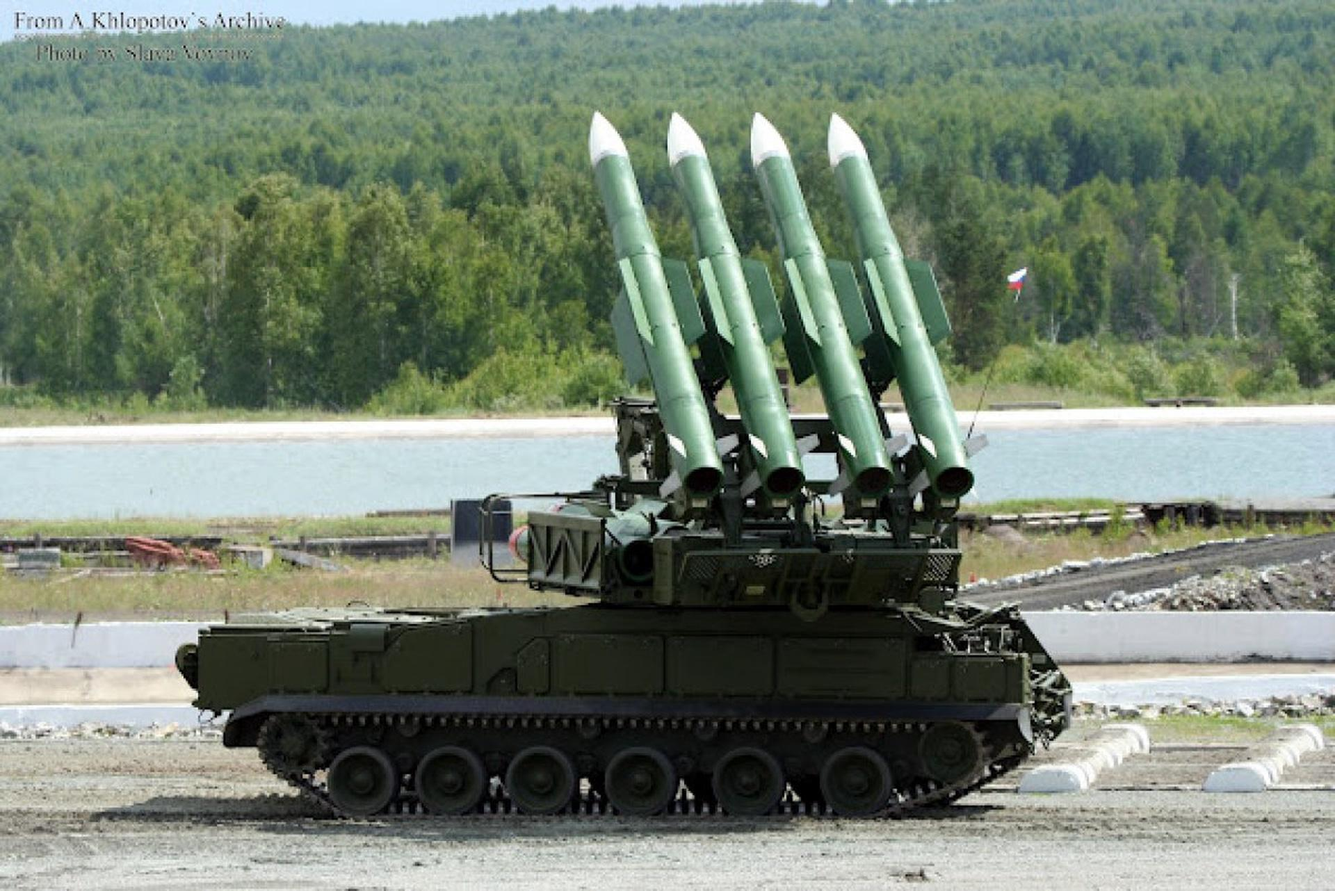armored_car: (165, 103, 1078, 842)
